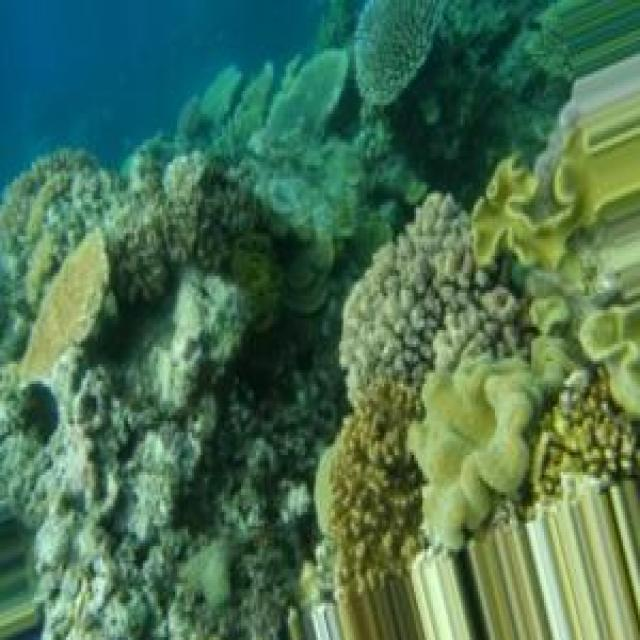healthy coral: (340, 197, 528, 404), (408, 337, 564, 549), (475, 95, 640, 268), (316, 378, 422, 588), (21, 228, 109, 377), (1, 150, 115, 246), (355, 0, 442, 104), (266, 50, 348, 136)
